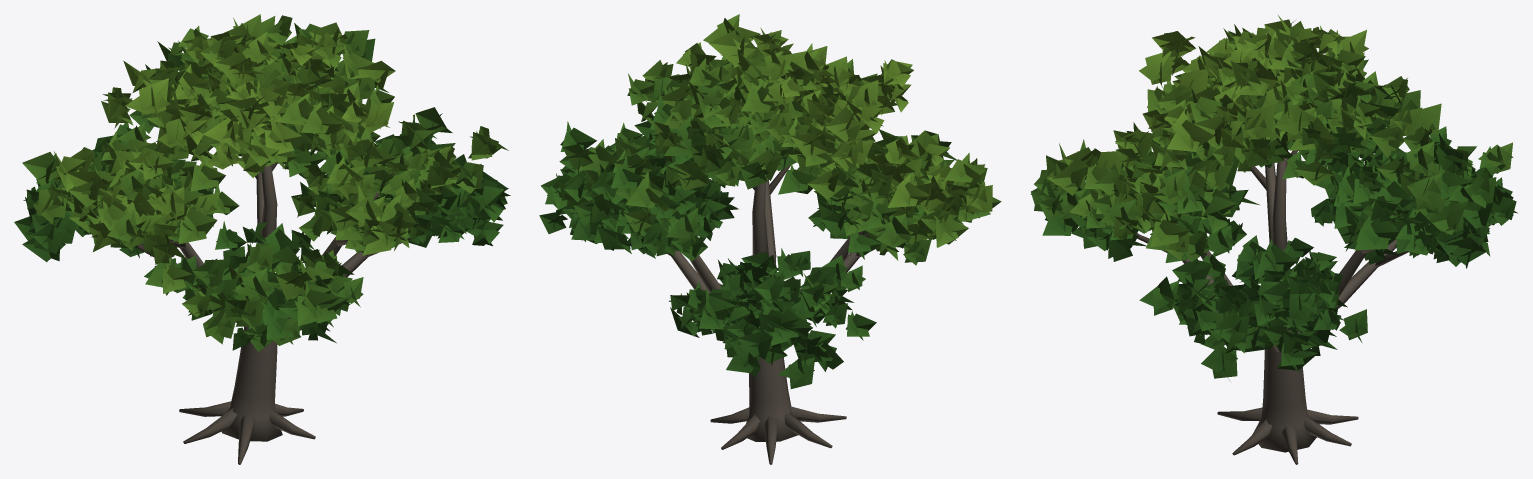
The model's file is tree_oak.glb.
3 renders of one model, left to right at view 1: azimuth 30°, elevation 25°; view 2: azimuth 150°, elevation 25°; view 3: azimuth 270°, elevation 25°, orthographic. The views are drawn at different scales.
Visible parts, largest first — view 1: tree_oak; view 2: tree_oak; view 3: tree_oak.
Boxes of the visible parts, <box> form: tree_oak: <box>14,14,510,464</box>; tree_oak: <box>539,14,1001,464</box>; tree_oak: <box>1030,14,1517,464</box>.
Bounding box in the file's own units: 10.47 × 9.18 × 9.92.
